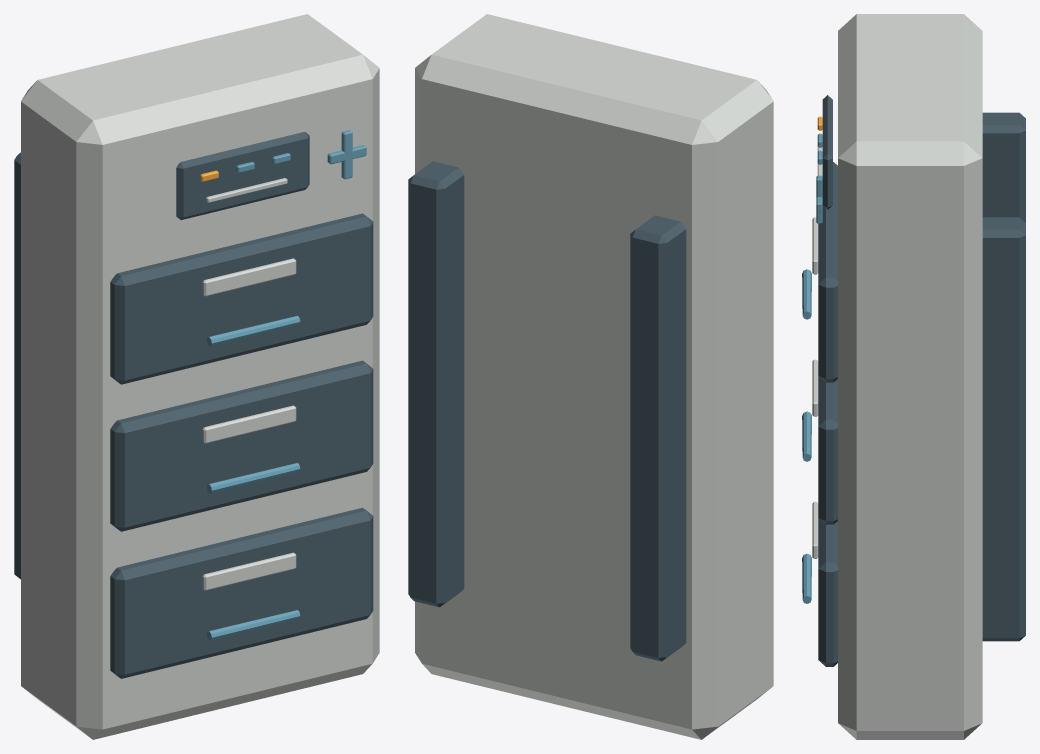
3 views of the same model, side by side, from view 1: azimuth 30°, elevation 25°; view 2: azimuth 150°, elevation 25°; view 3: azimuth 270°, elevation 25° (orthographic). The views are drawn at different scales.
Parts seen in each view (by area): view 1: MI-009 Sealed medical supply cabinet batched; view 2: MI-009 Sealed medical supply cabinet batched; view 3: MI-009 Sealed medical supply cabinet batched.
Part boxes in pixels (x1,y1,x2,y2): MI-009 Sealed medical supply cabinet batched: (14, 14, 379, 739); MI-009 Sealed medical supply cabinet batched: (408, 14, 773, 739); MI-009 Sealed medical supply cabinet batched: (802, 14, 1025, 739).
Bounding box in the file's own units: 0.82 × 1.6 × 0.542.
